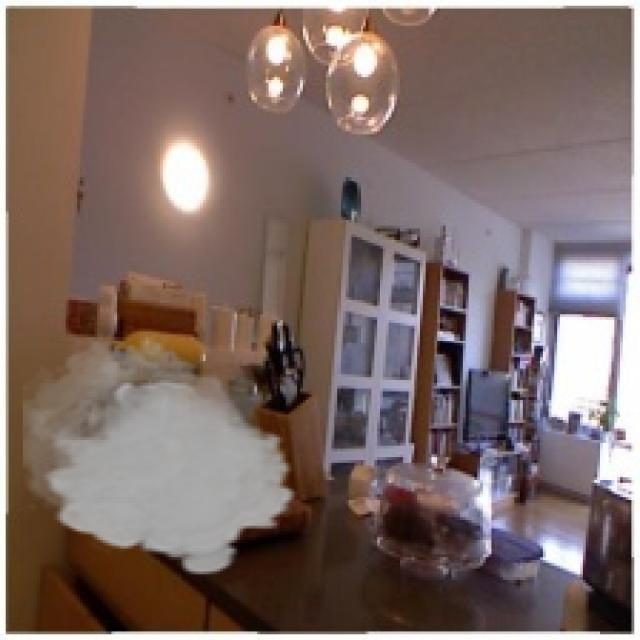Smoke: (23, 328, 300, 578)
